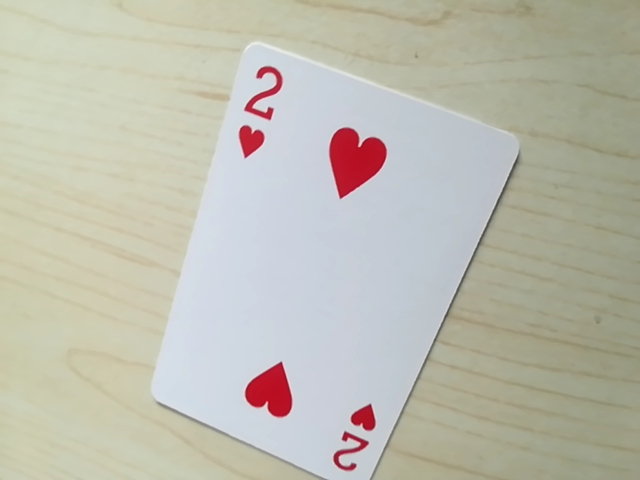hx 2: (230, 52, 289, 166), (327, 404, 380, 480)
